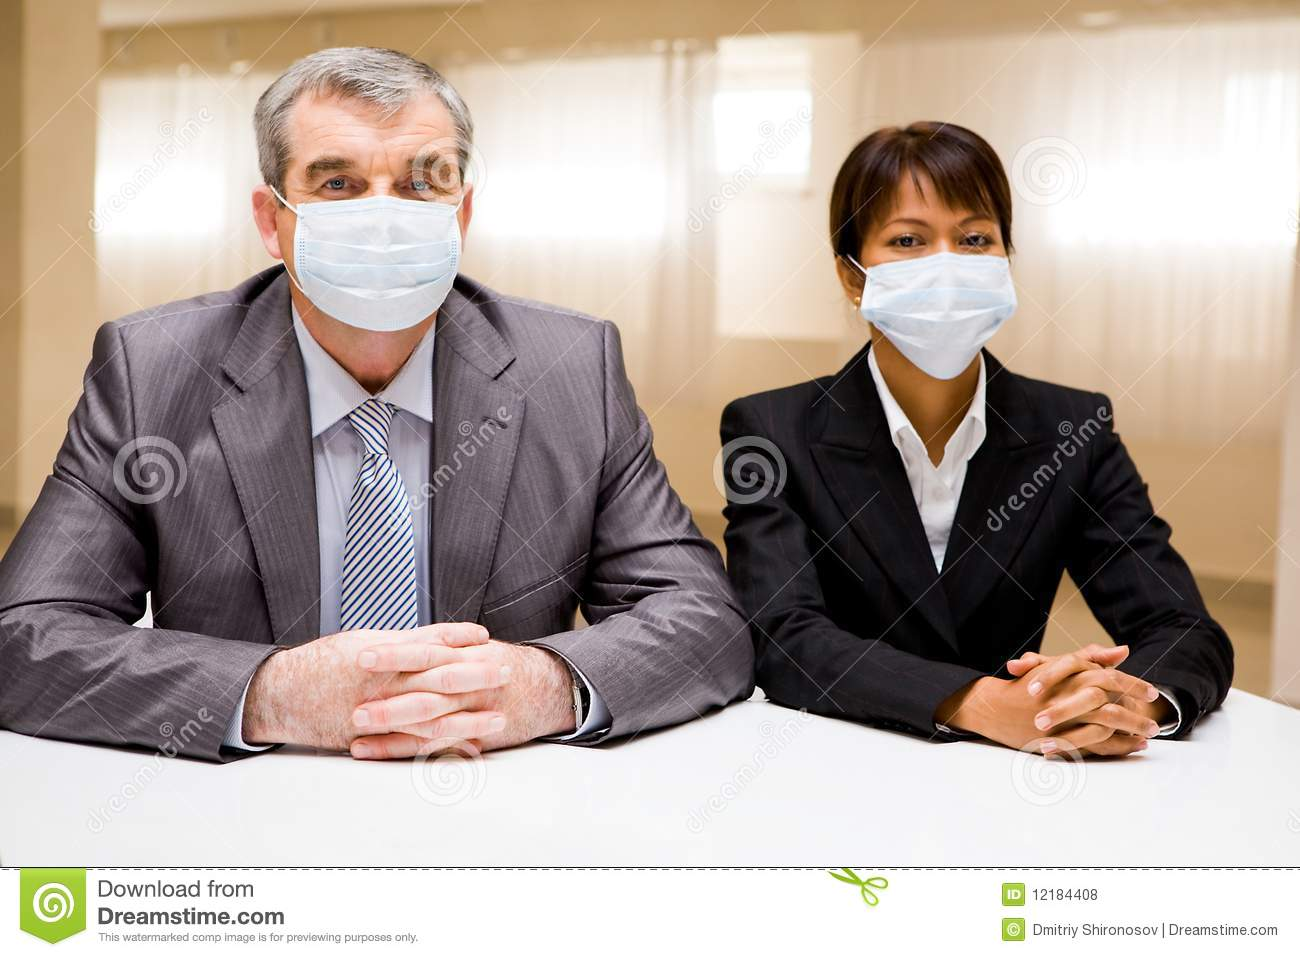mask: (298, 205, 472, 344), (861, 260, 1017, 364)
